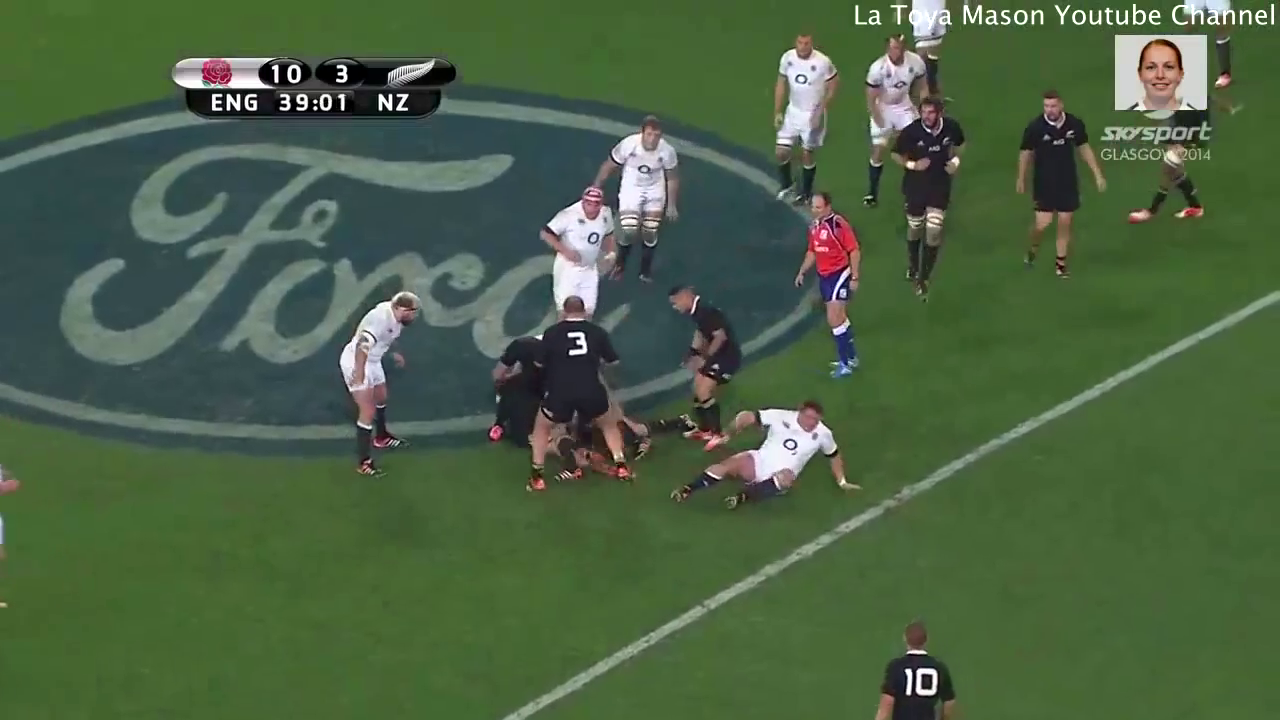player: (658, 396, 850, 524), (524, 295, 639, 490), (333, 291, 428, 486), (590, 120, 692, 285), (886, 100, 966, 300), (793, 194, 875, 380), (1017, 92, 1100, 274), (761, 32, 838, 200), (533, 190, 621, 316), (664, 280, 732, 440), (860, 624, 959, 720), (863, 36, 923, 127)
ruck: (479, 340, 673, 462)
